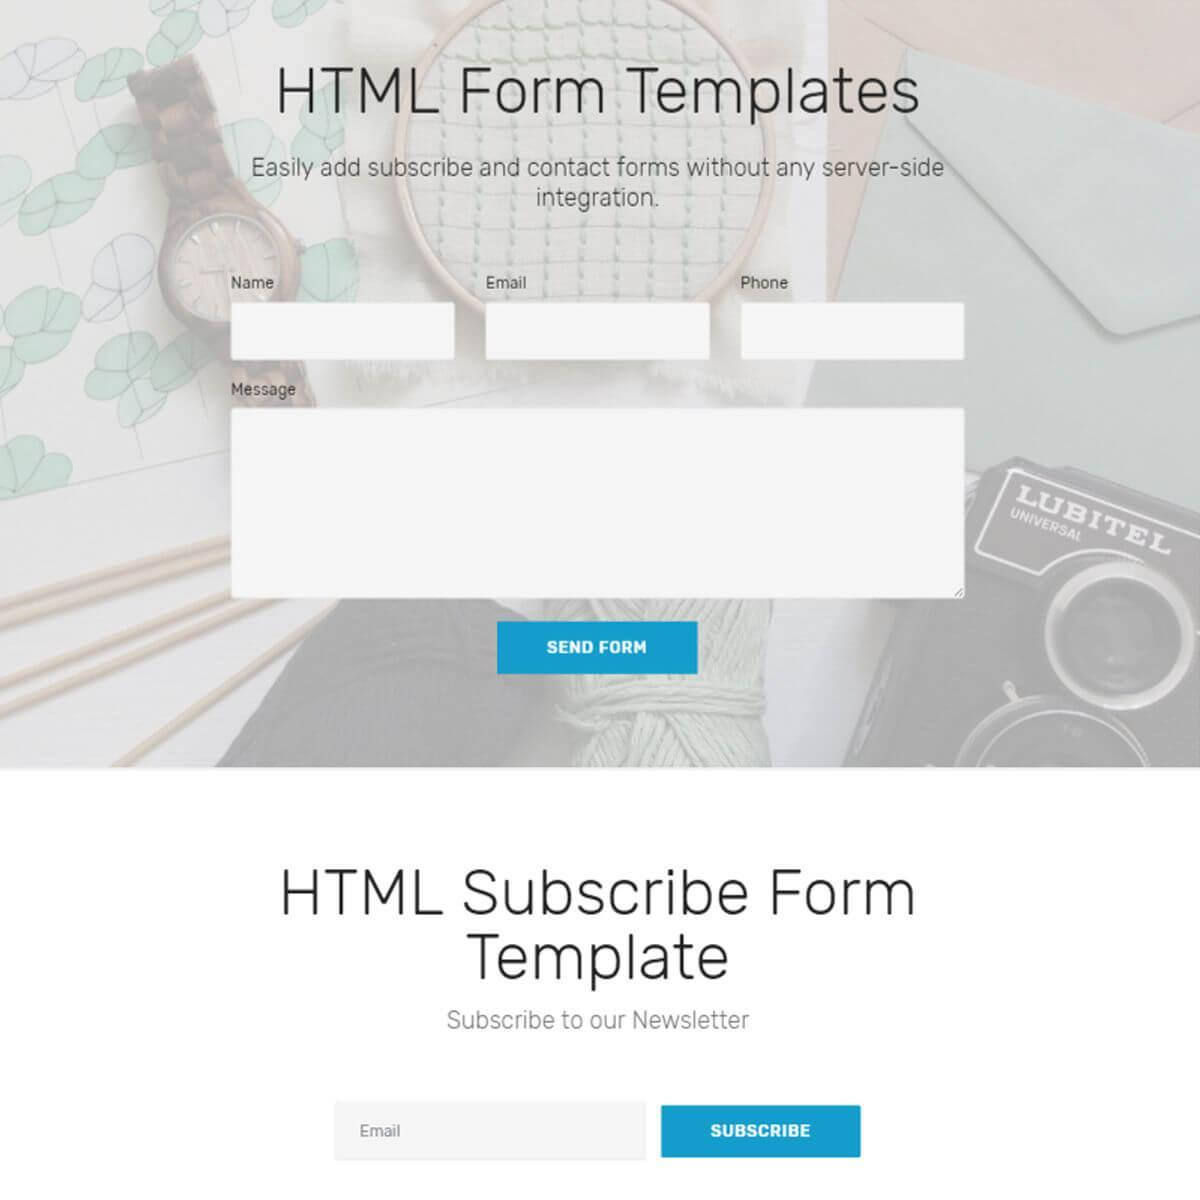button: (499, 622, 701, 676), (663, 1105, 863, 1159)
input: (335, 1103, 647, 1162), (231, 302, 456, 362), (487, 303, 711, 363), (742, 303, 968, 362)
label: (257, 52, 962, 129), (236, 153, 976, 212), (218, 269, 289, 298), (232, 379, 304, 401), (738, 273, 795, 296), (480, 275, 534, 295)
